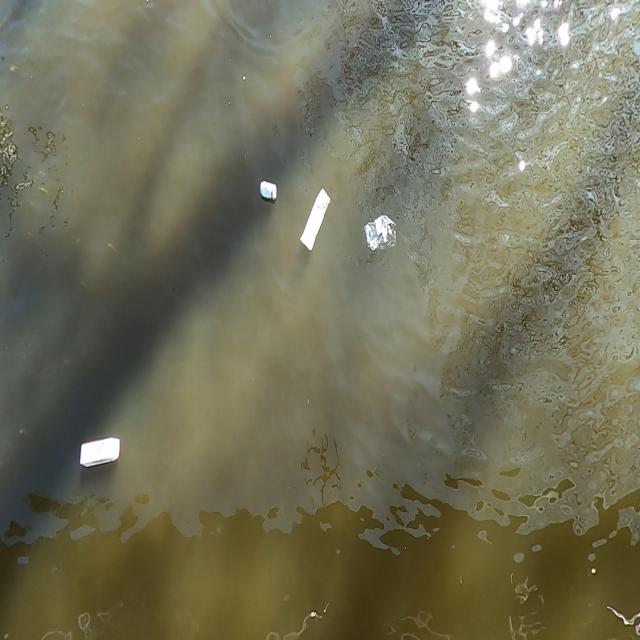Autre plastique: (298, 180, 336, 260), (79, 436, 127, 470)
Non plastique: (258, 178, 278, 205)
